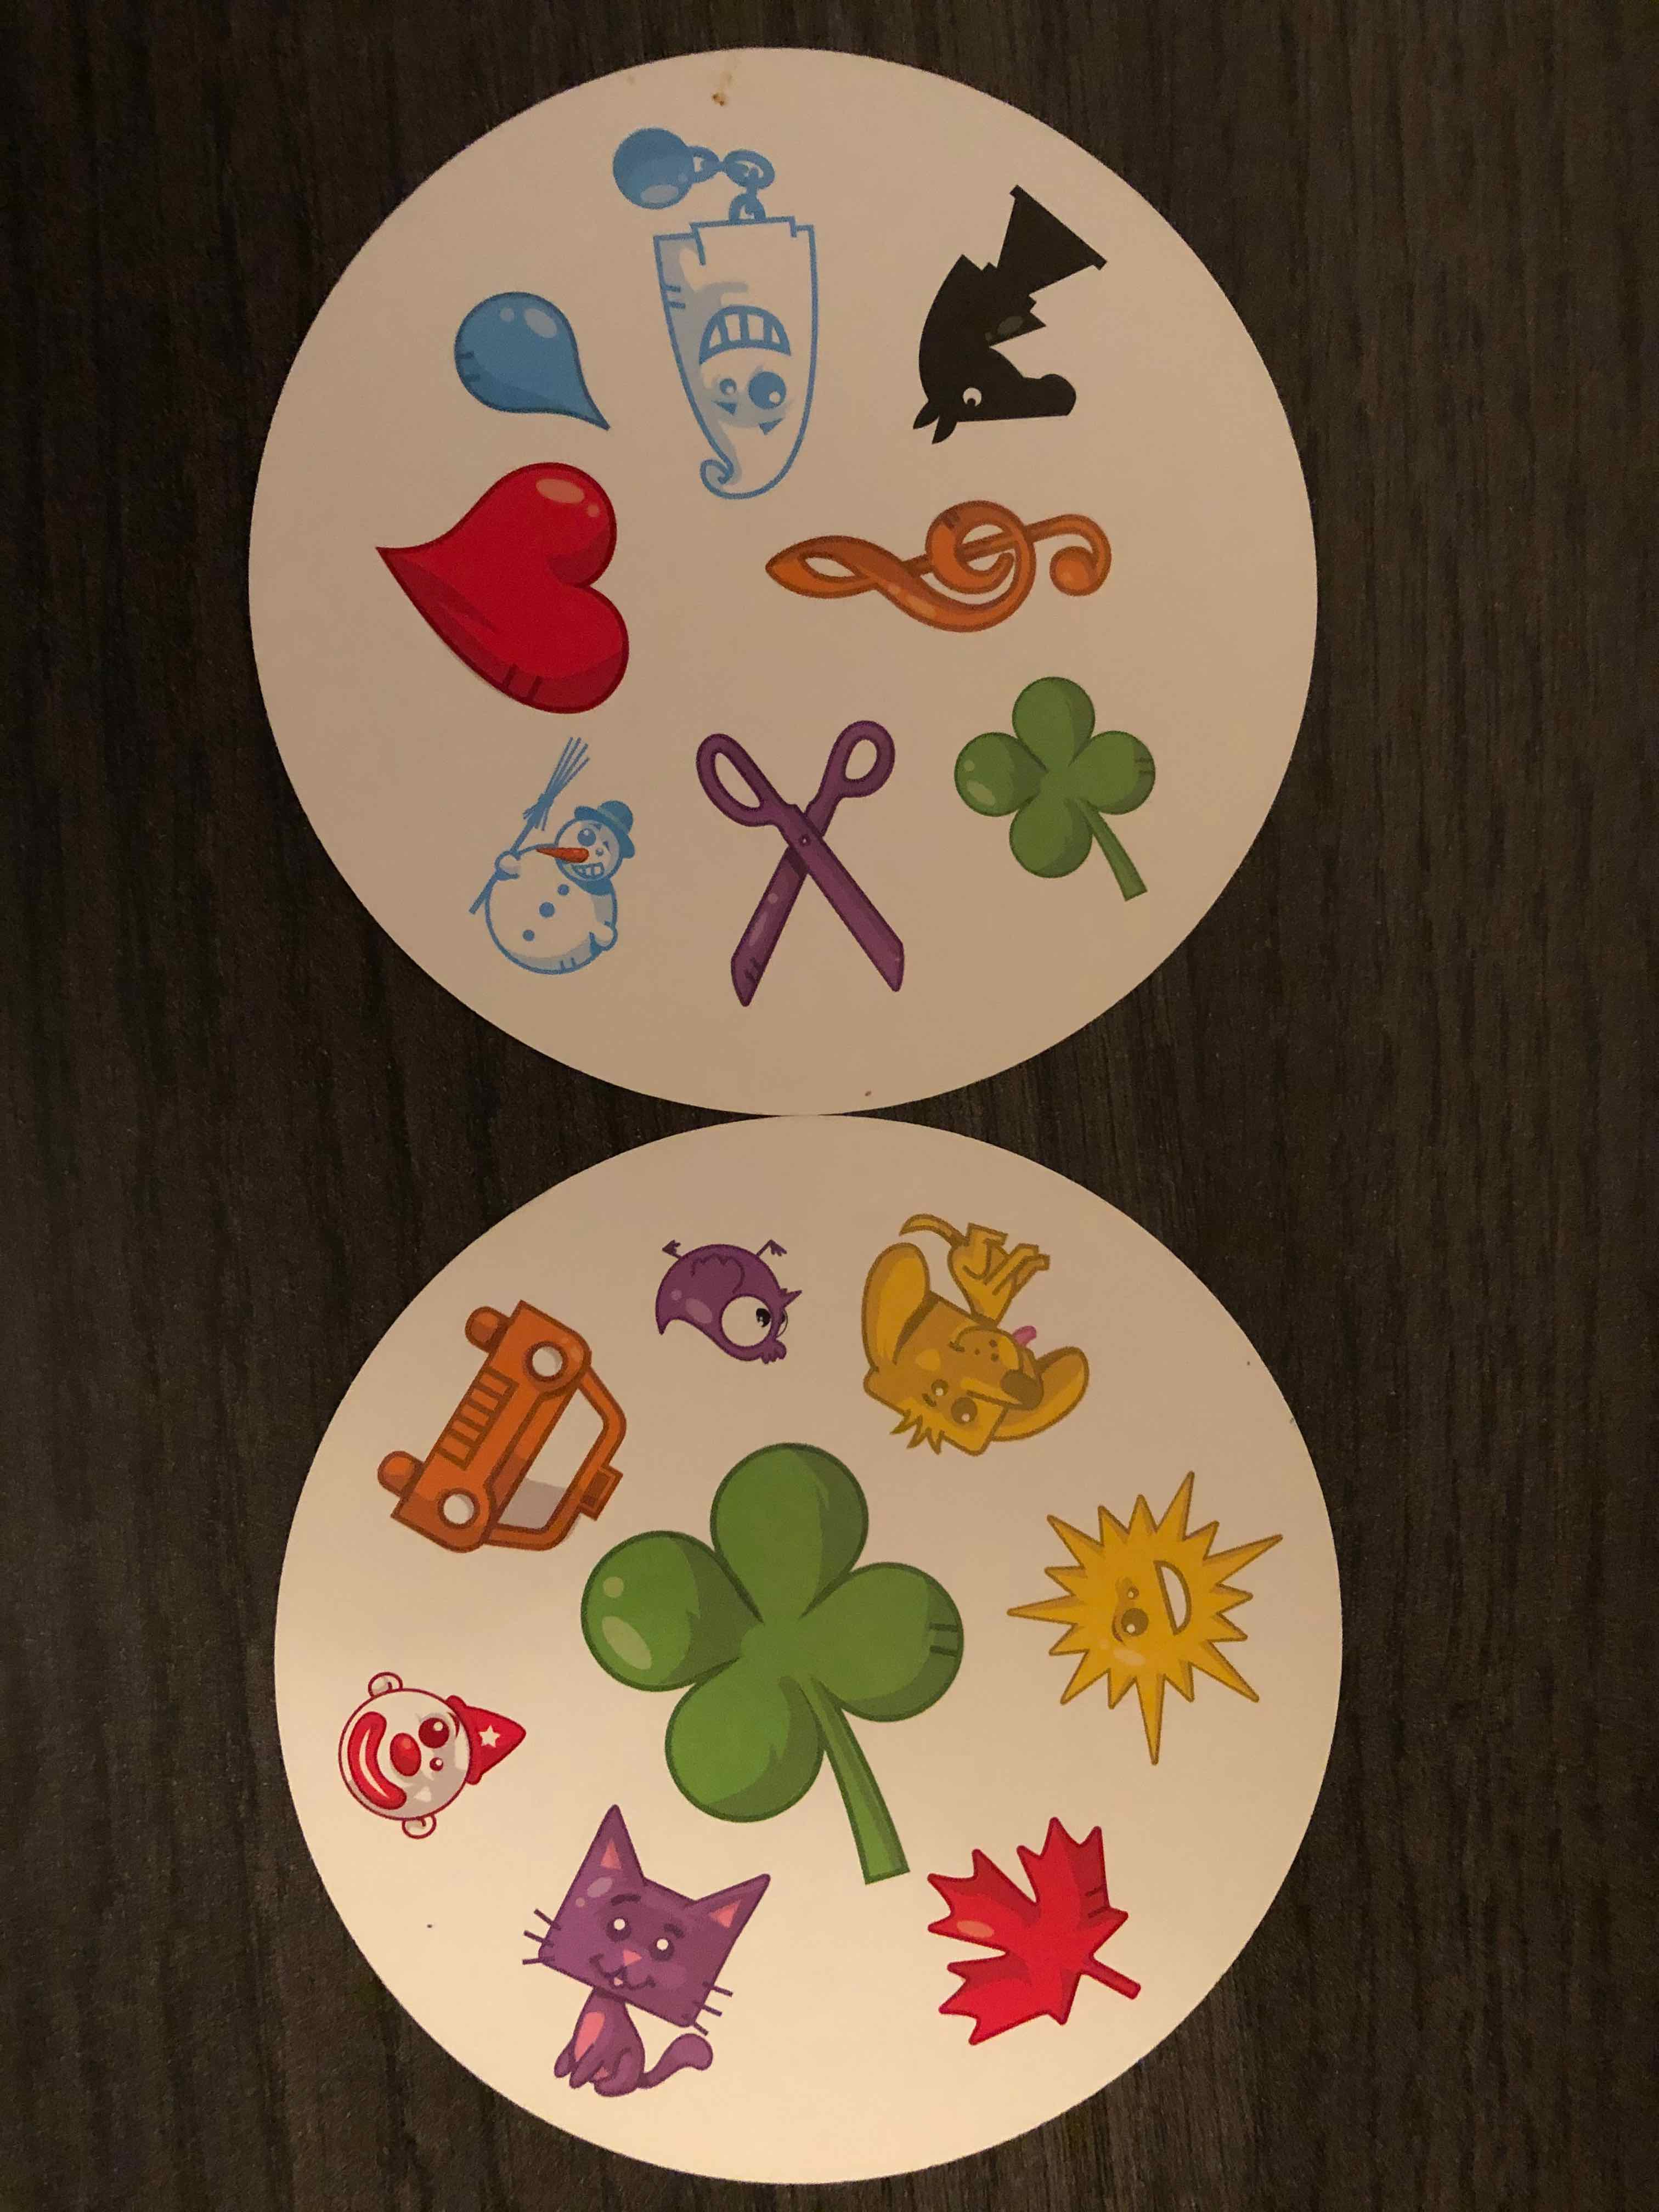bonhomme_neige: (460, 719, 643, 982)
chat: (511, 1803, 781, 2104)
cheval: (896, 204, 1112, 451)
chien: (852, 1205, 1098, 1463)
ciseau: (687, 711, 915, 1007)
clown: (333, 1663, 533, 1844)
coeur: (362, 456, 629, 716)
fantome: (605, 110, 833, 509)
feuille: (915, 1810, 1154, 2045)
goutte: (446, 286, 627, 439)
note: (763, 495, 1121, 643)
oiseau: (648, 1221, 814, 1374)
soleil: (1021, 1465, 1288, 1756)
trefle: (572, 1432, 972, 1890), (953, 664, 1180, 906)
voiture: (369, 1291, 634, 1561)
